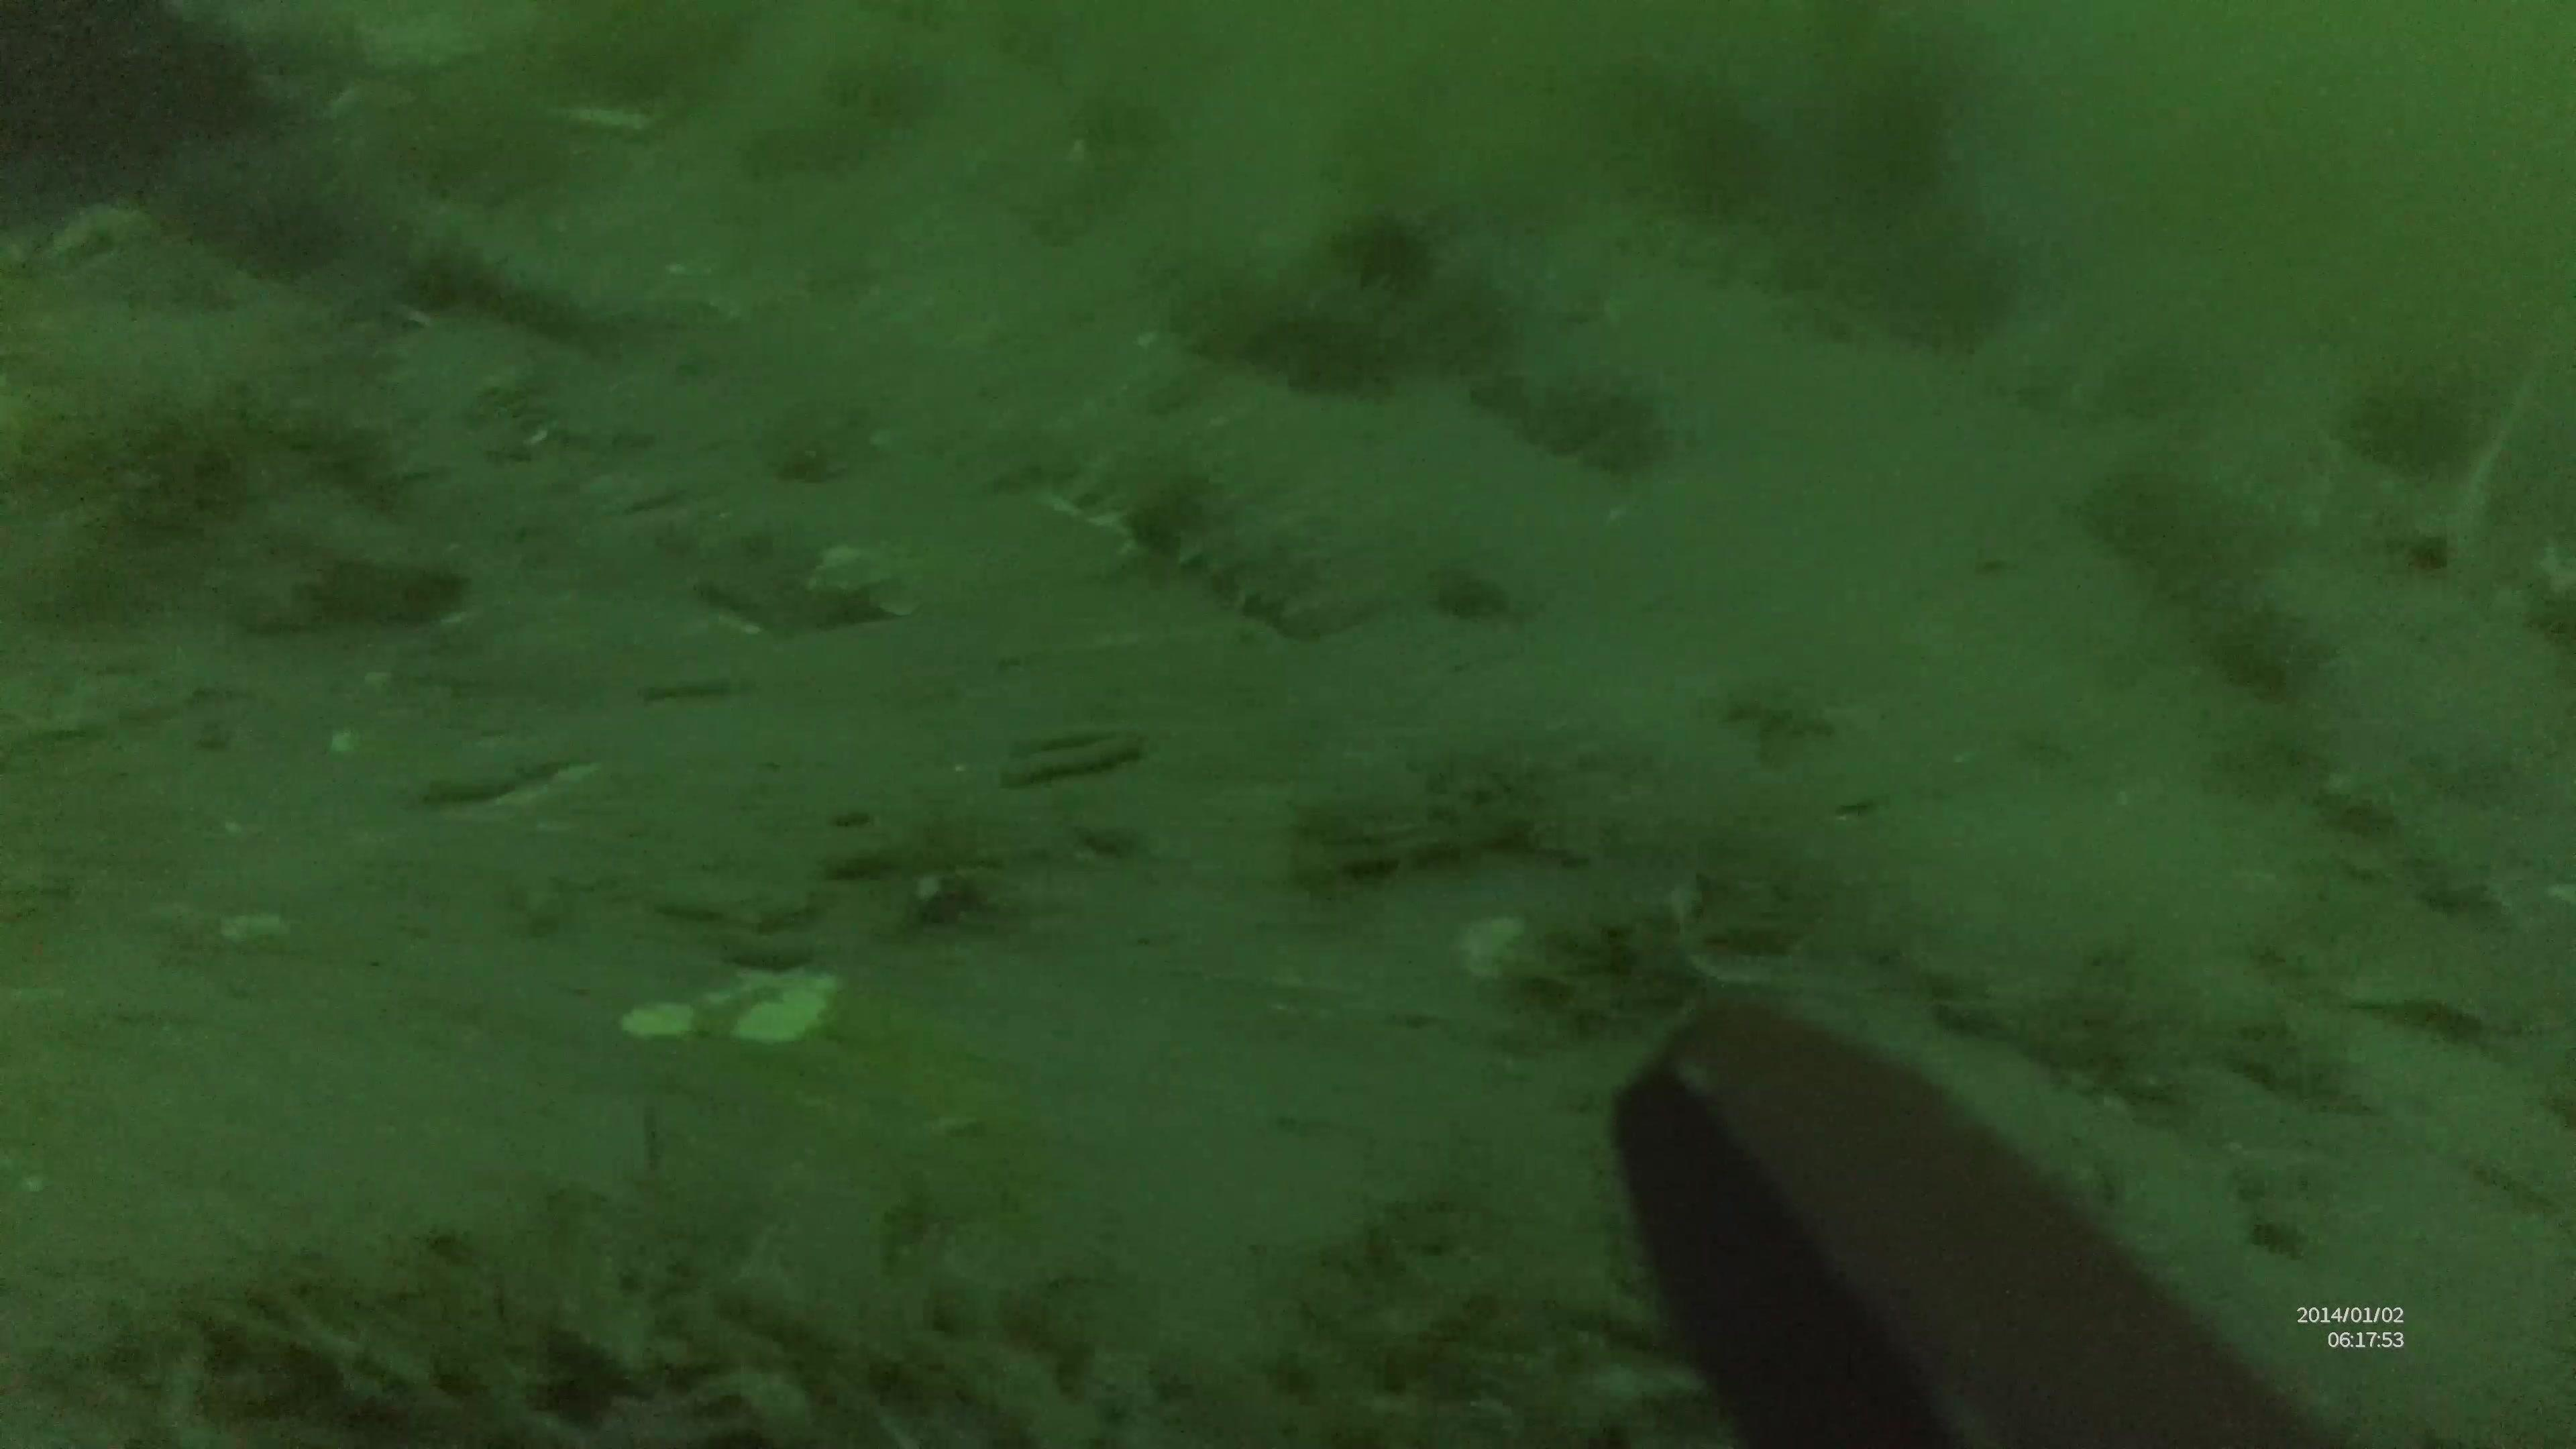holothurian: (1152, 492, 1355, 642)
